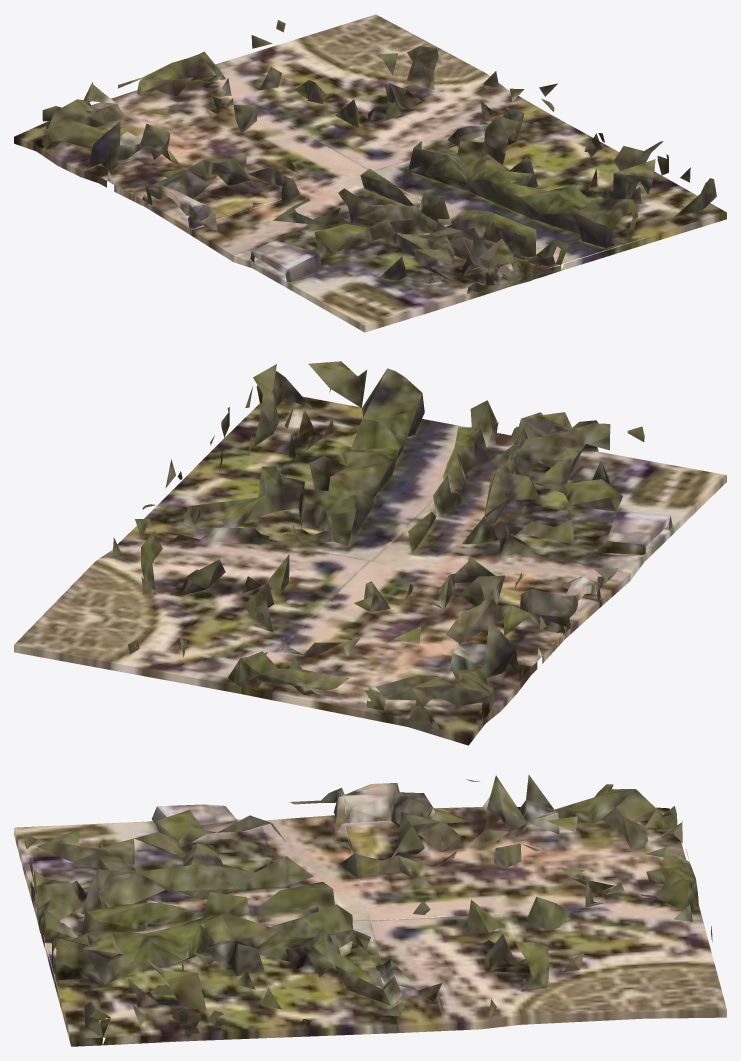
3 views of the same model, one above another, from view 1: azimuth 30°, elevation 25°; view 2: azimuth 150°, elevation 25°; view 3: azimuth 270°, elevation 25° (orthographic). The views are drawn at different scales.
Parts seen in each view (by area): view 1: Mesh_0; view 2: Mesh_0; view 3: Mesh_0.
Boxes of the visible parts, x1,y1,x2,y2 form: Mesh_0: (14, 14, 726, 332); Mesh_0: (14, 361, 726, 745); Mesh_0: (14, 774, 726, 1046).
Size of the model in its own units: 266 by 42.53 by 330.
Materials: 1 (1 with a texture image).
